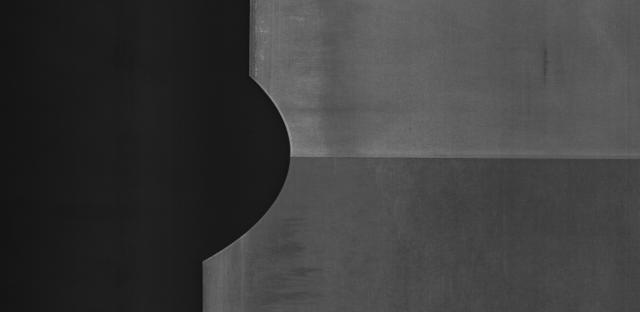welding_line: (286, 148, 640, 176)
